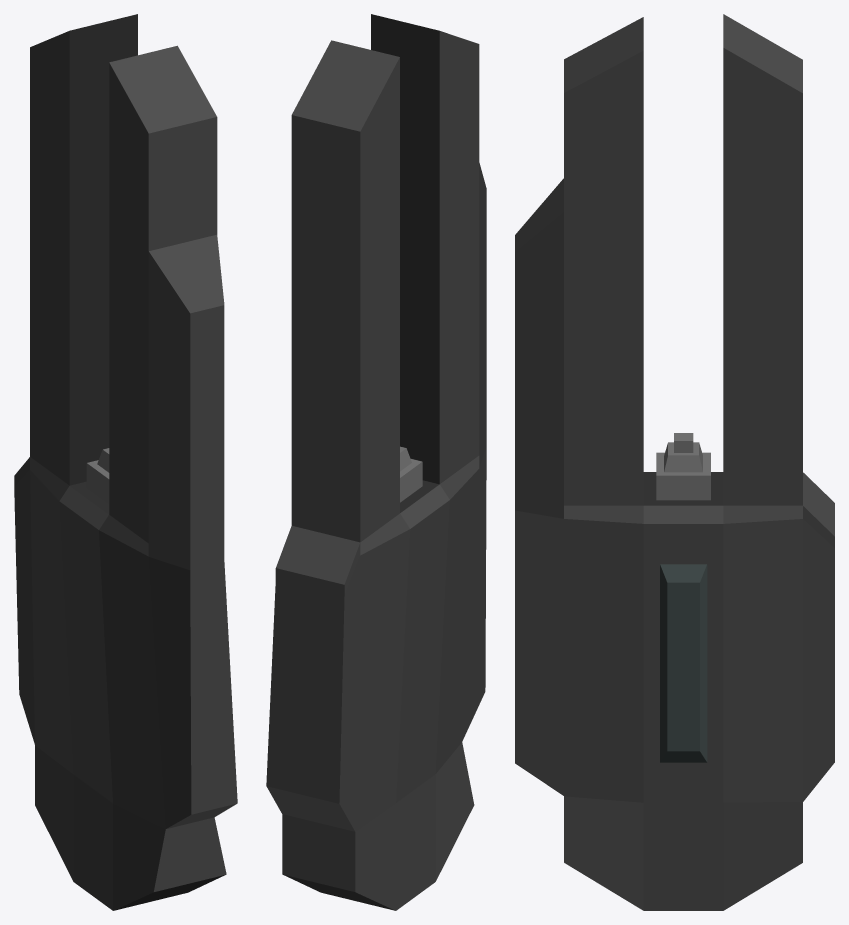
File: PlasmaCannon_Model.fbx
The picture shows the model from 3 angles, left to right: view 1: azimuth 30°, elevation 25°; view 2: azimuth 150°, elevation 25°; view 3: azimuth 270°, elevation 25°; orthographic projection.
Visible parts, largest first — view 1: PlasmaCannon; view 2: PlasmaCannon; view 3: PlasmaCannon.
Boxes of the visible parts, x1=… form: PlasmaCannon: x1=14, y1=14, x2=237, y2=910; PlasmaCannon: x1=266, y1=14, x2=486, y2=910; PlasmaCannon: x1=515, y1=14, x2=834, y2=910.
Size of the model in its own units: 0.033 by 0.2786 by 0.0941.
